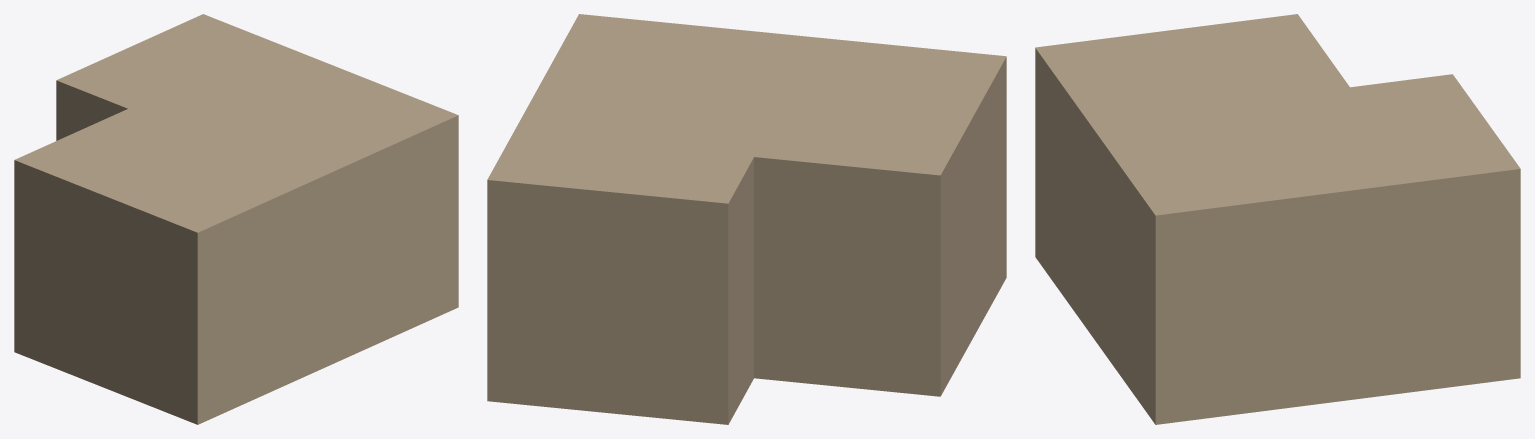
Rendered from bld_99872187.dae.
3 renders of one model, left to right at view 1: azimuth 30°, elevation 25°; view 2: azimuth 150°, elevation 25°; view 3: azimuth 270°, elevation 25°, orthographic. The views are drawn at different scales.
Visible parts, largest first — view 1: bld_99872187; view 2: bld_99872187; view 3: bld_99872187.
Part boxes in pixels (box(x1,y1,x2,y2)): bld_99872187: box(14, 14, 458, 424); bld_99872187: box(487, 14, 1006, 424); bld_99872187: box(1035, 14, 1520, 424).
Bounding box in the file's own units: 16.52 × 16.82 × 8.
